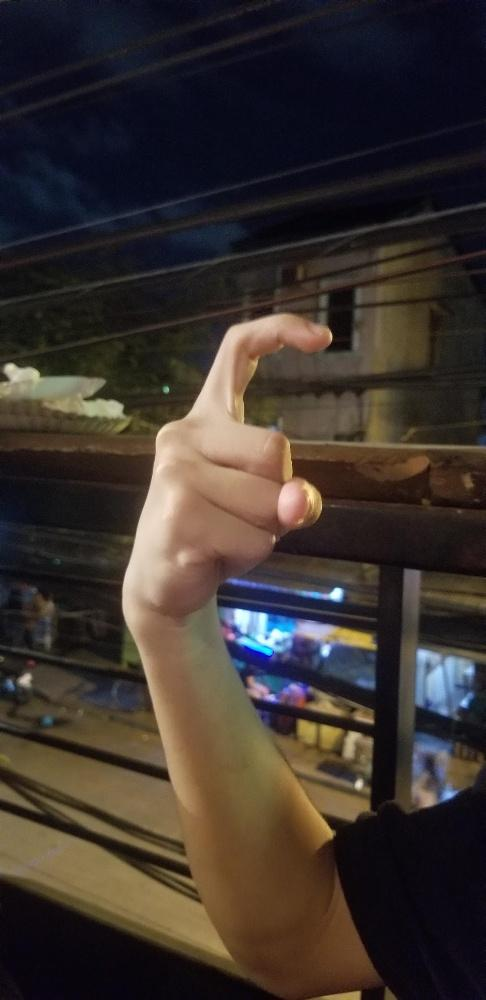x: (122, 310, 336, 632)
